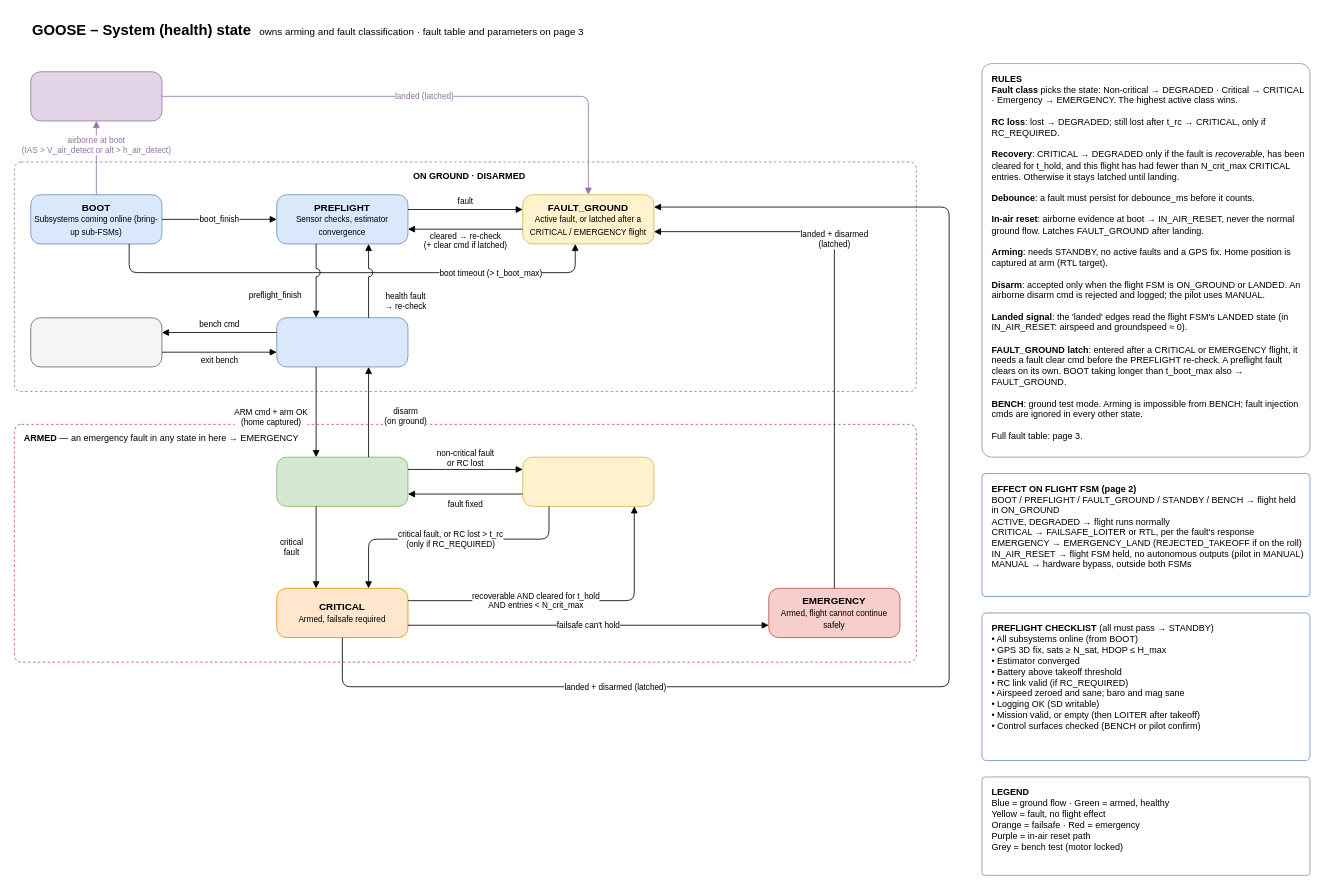
Image size: 1324x890. Some labels were removed from this diagram. Here are the shapes that lost their labels. From the top down, the centre of each, then its label:
At (96,96): "IN_AIR_RESET Rebooted airborne. Disarmed, pilot flies MANUAL, logging only".
At (96,342): "BENCH Motor locked, servos live. Fault injection only here".
At (342,342): "STANDBY All systems healthy, ready to arm".
At (342,481): "ACTIVE Armed, all healthy".
At (588,481): "DEGRADED Armed, non-critical fault. Log only, no flight effect".
